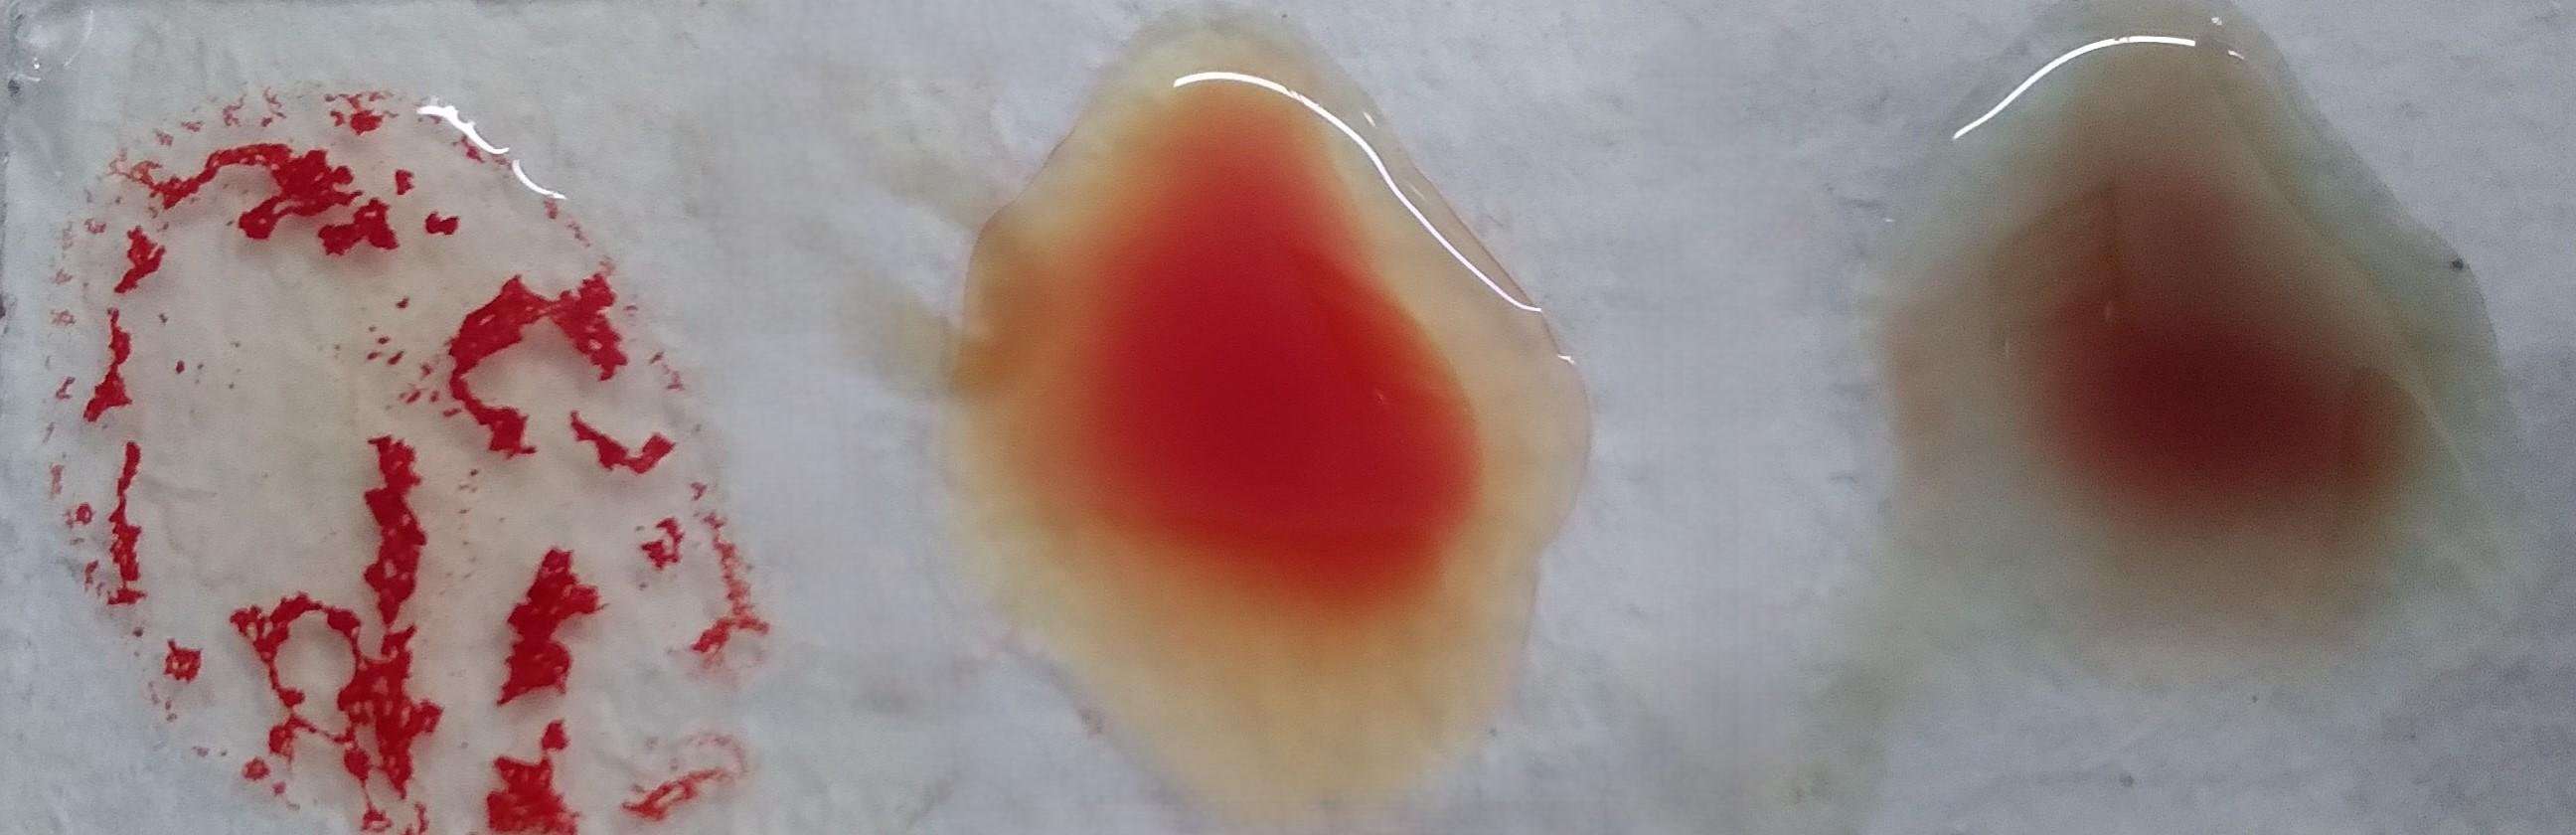D: (46, 92, 716, 835)
